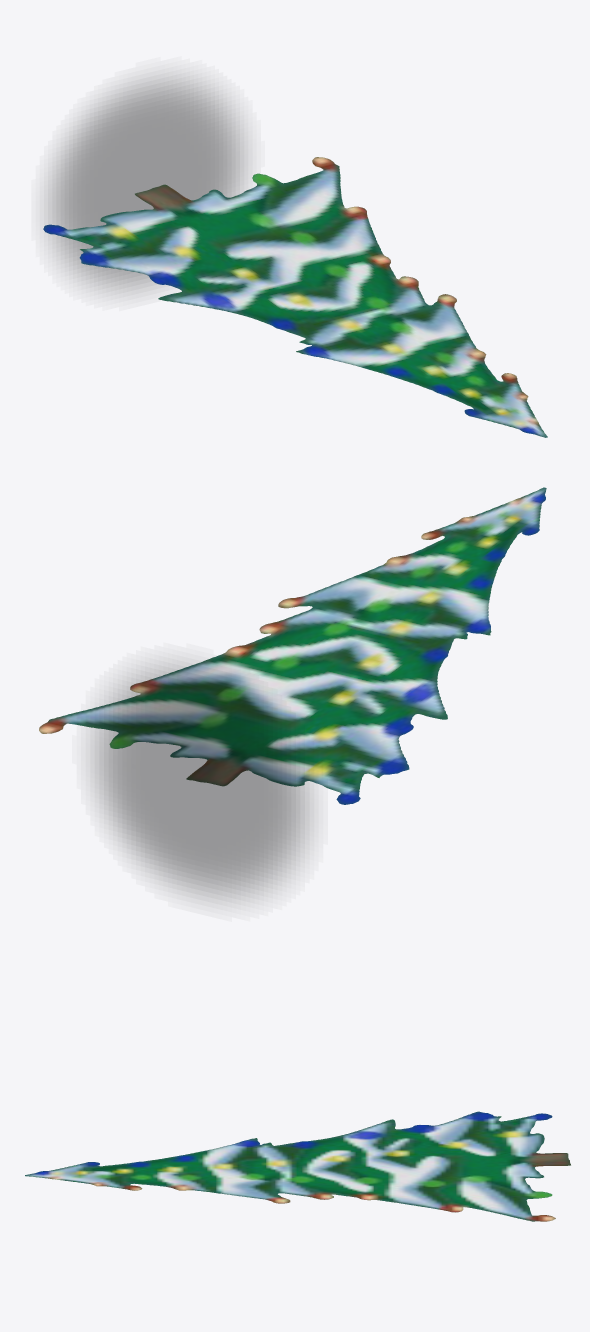
File: prop_snow_tree_large_ul.glb
3 views of the same model, one above another, from view 1: azimuth 30°, elevation 25°; view 2: azimuth 150°, elevation 25°; view 3: azimuth 270°, elevation 25° (orthographic). The views are drawn at different scales.
Parts seen in each view (by area): view 1: p285_6__billboard, shadow_snow_tree_large_nobox_ul; view 2: p285_6__billboard, shadow_snow_tree_large_nobox_ul; view 3: p285_6__billboard.
Part boxes in pixels (x1=…): p285_6__billboard: x1=43, y1=157, x2=547, y2=437; shadow_snow_tree_large_nobox_ul: x1=48, y1=76, x2=244, y2=292; p285_6__billboard: x1=39, y1=487, x2=546, y2=804; shadow_snow_tree_large_nobox_ul: x1=94, y1=664, x2=309, y2=900; p285_6__billboard: x1=25, y1=1111, x2=570, y2=1221.
Bounding box in the file's own units: 13.97 × 12.32 × 29.17.
Materials: 2 (2 with a texture image).
